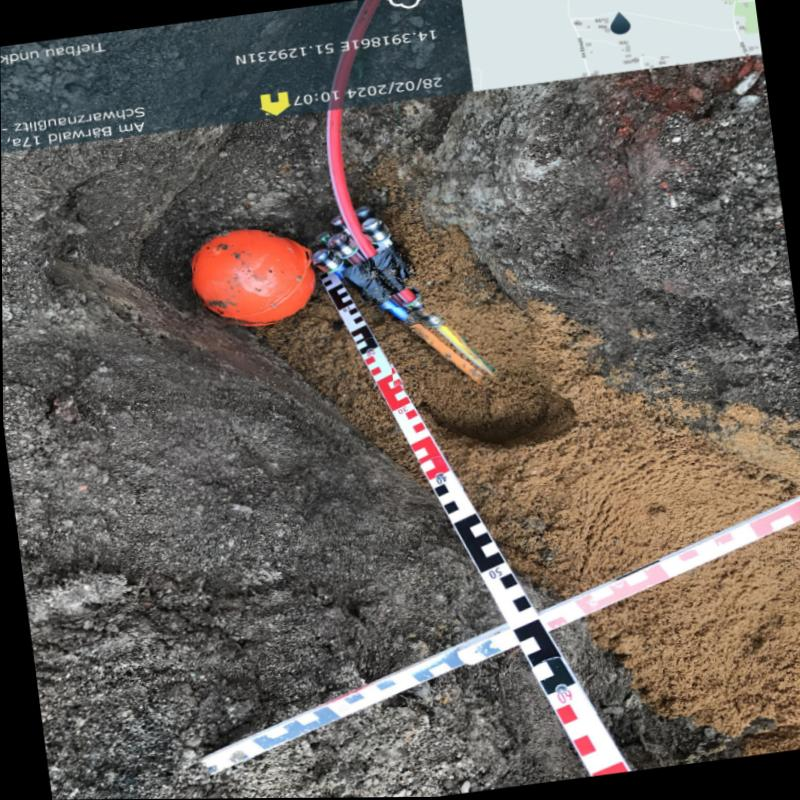Kugelmarker: (189, 227, 313, 323)
Orang-Speednetrohrchen: (383, 302, 492, 383)
